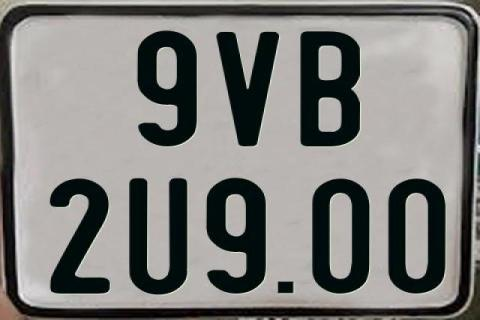0: (47, 178, 112, 294), (206, 176, 268, 296), (136, 31, 197, 151), (309, 177, 369, 297), (387, 178, 445, 296)
B: (297, 31, 361, 149)
U: (127, 178, 185, 294)
V: (216, 29, 283, 149)
